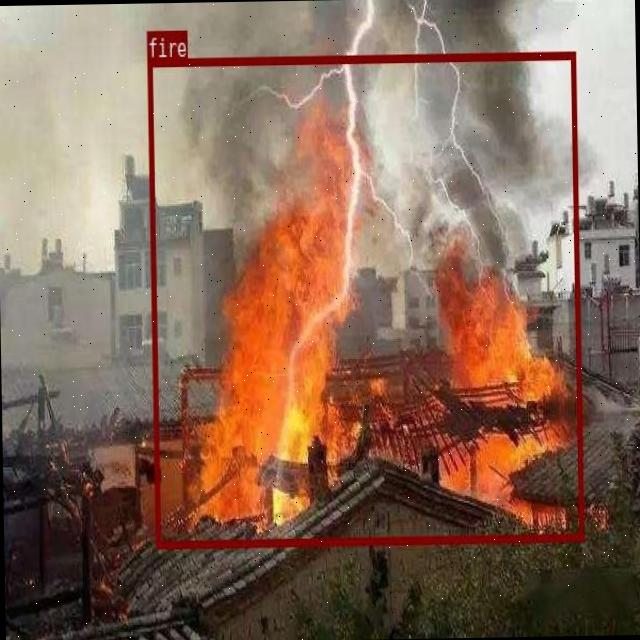fire: (148, 51, 582, 546)
